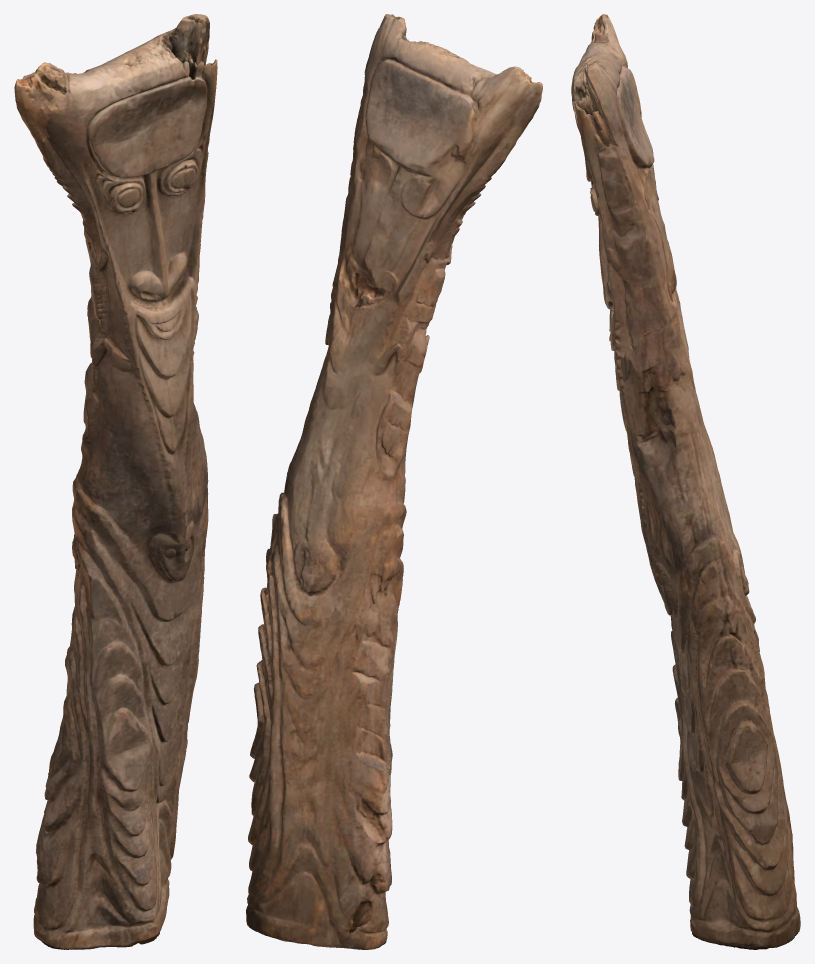
File: preview.glb
3 views of the same model, side by side, from view 1: azimuth 30°, elevation 25°; view 2: azimuth 150°, elevation 25°; view 3: azimuth 270°, elevation 25° (orthographic). The views are drawn at different scales.
Visible parts, largest first — view 1: Polygonal_Model_1_PG_1979_206_1672_OB_AAOA_HousePost_n3d; view 2: Polygonal_Model_1_PG_1979_206_1672_OB_AAOA_HousePost_n3d; view 3: Polygonal_Model_1_PG_1979_206_1672_OB_AAOA_HousePost_n3d.
Part boxes in pixels (<box>): Polygonal_Model_1_PG_1979_206_1672_OB_AAOA_HousePost_n3d: <box>14,14,217,949</box>; Polygonal_Model_1_PG_1979_206_1672_OB_AAOA_HousePost_n3d: <box>246,14,542,949</box>; Polygonal_Model_1_PG_1979_206_1672_OB_AAOA_HousePost_n3d: <box>571,14,800,949</box>.
Bounding box in the file's own units: 0.685 × 2.56 × 0.6128.
Materials: 1 (1 with a texture image).
